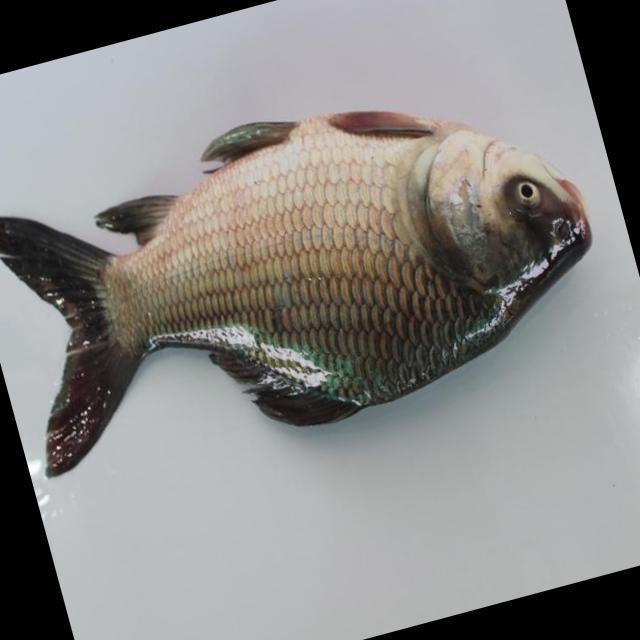Catla: (1, 110, 596, 484)
